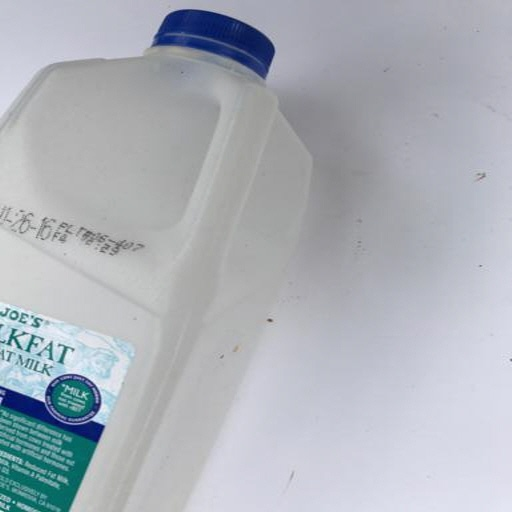Plastic_1: (3, 9, 312, 512)
